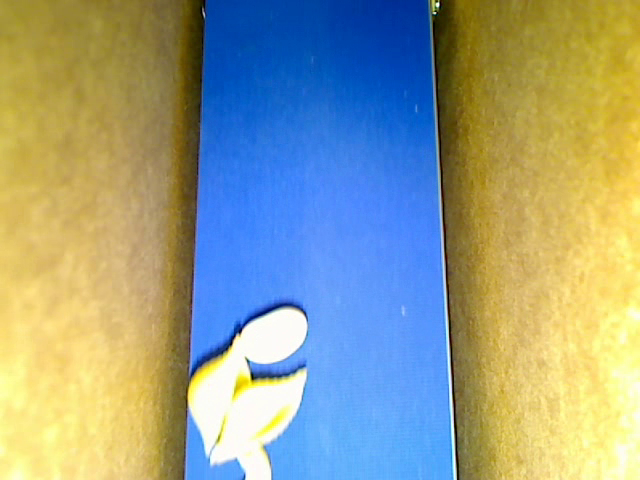elbow: (236, 441, 272, 479)
shell: (209, 367, 307, 465), (187, 333, 250, 460)
